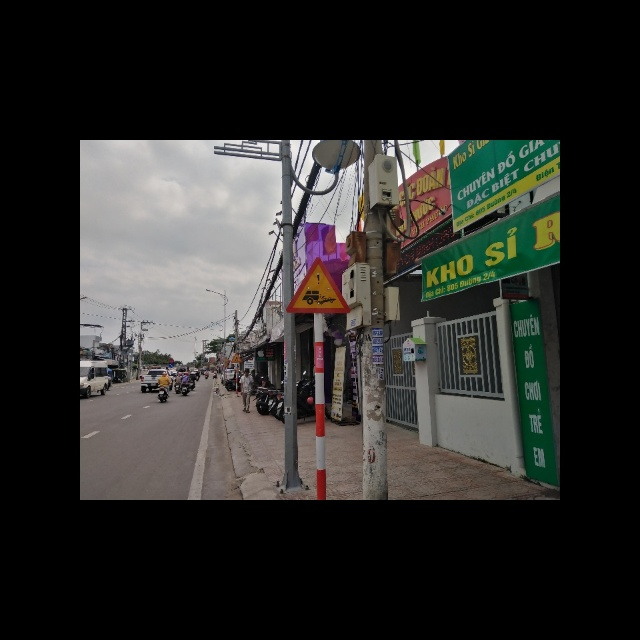Đoạn đường hay xảy ra tai nạn: (286, 255, 350, 313)
Đường đôi: (230, 352, 243, 364)
